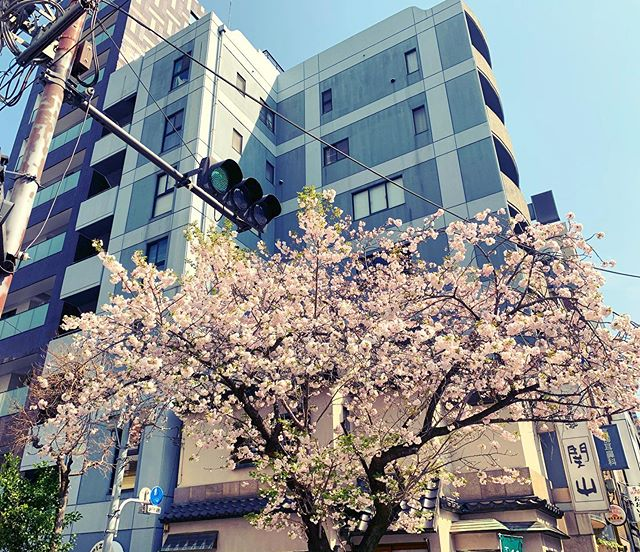building: (116, 37, 594, 552), (1, 5, 159, 552)
tree: (53, 202, 640, 552)
